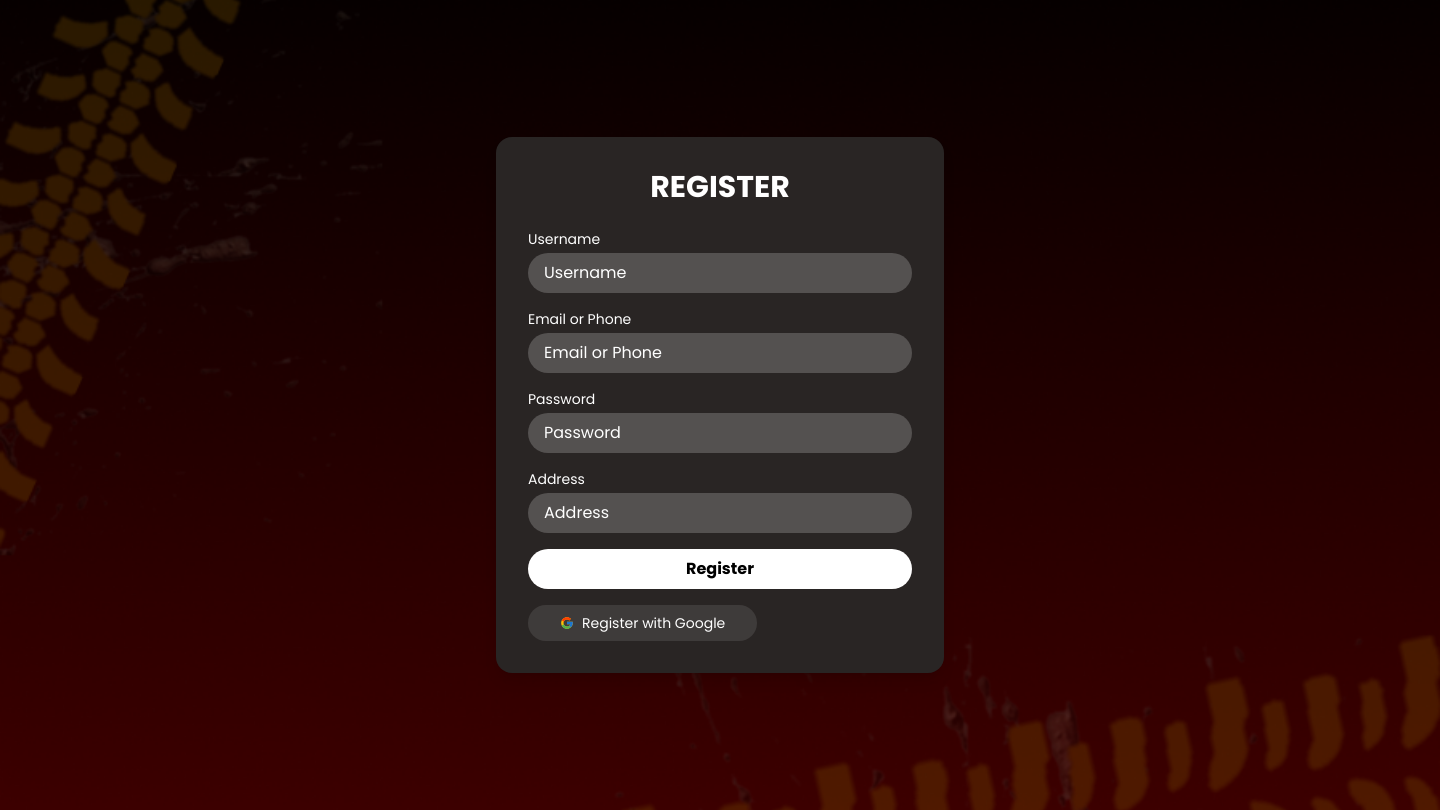
it: RegisterPage › Indikator kekuatan password
This screenshot has width=1440, height=810.
Type "abc" into the password field with placeholder "Password".
click(720, 433); type("abc")  # box [528,413,912,453]
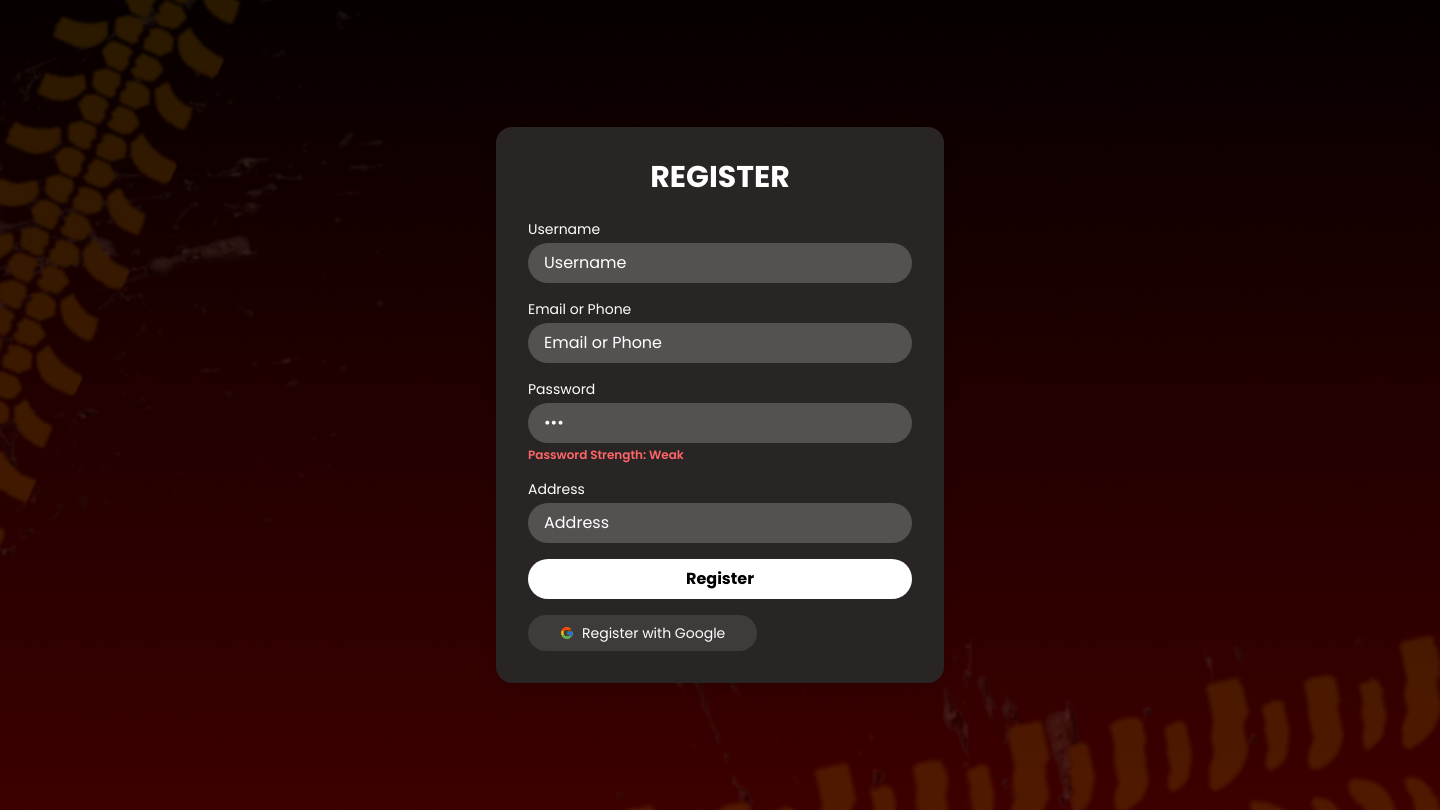
Now the text "Password Strength: Weak" is shown, box [528,446,684,463]
Type "abcdef" into the password field with placeholder "Password".
click(720, 423); type("abcdef")  # box [528,403,912,443]
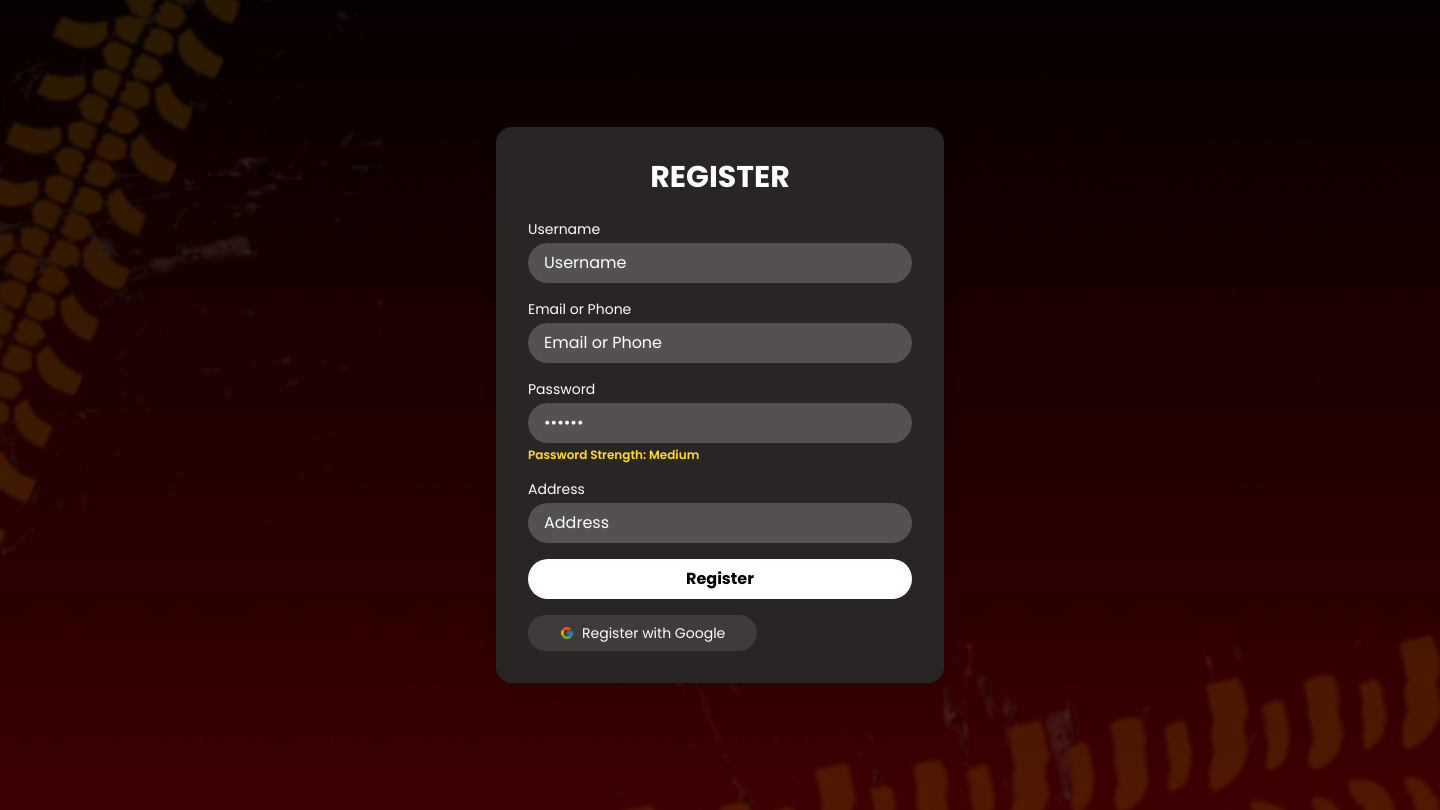
Now the text "Password Strength: Medium" is shown, box [528,446,699,463]
Type "Abcdef1" into the password field with placeholder "Password".
click(720, 423); type("Abcdef1")  # box [528,403,912,443]
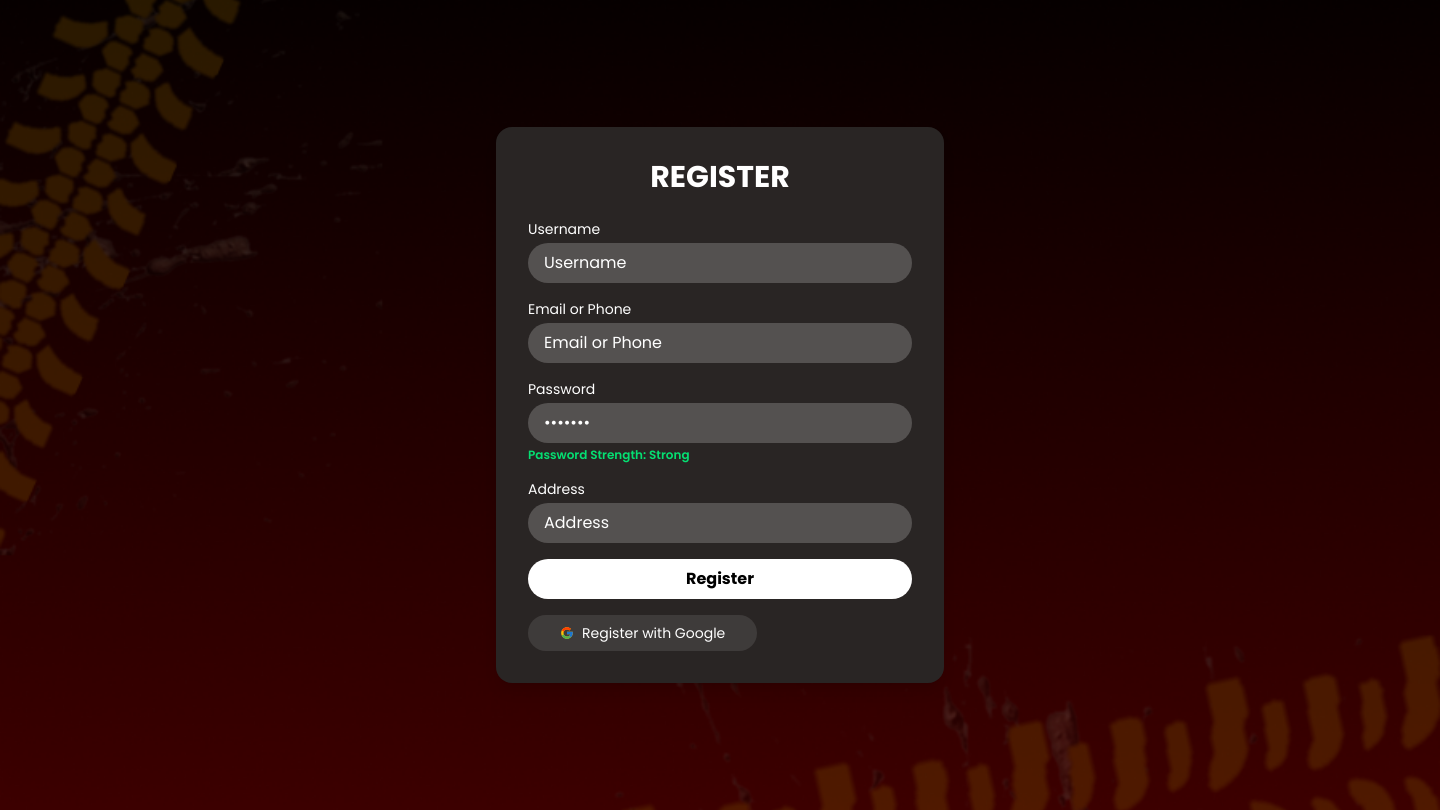
Now the text "Password Strength: Strong" is shown, box [528,446,690,463]
